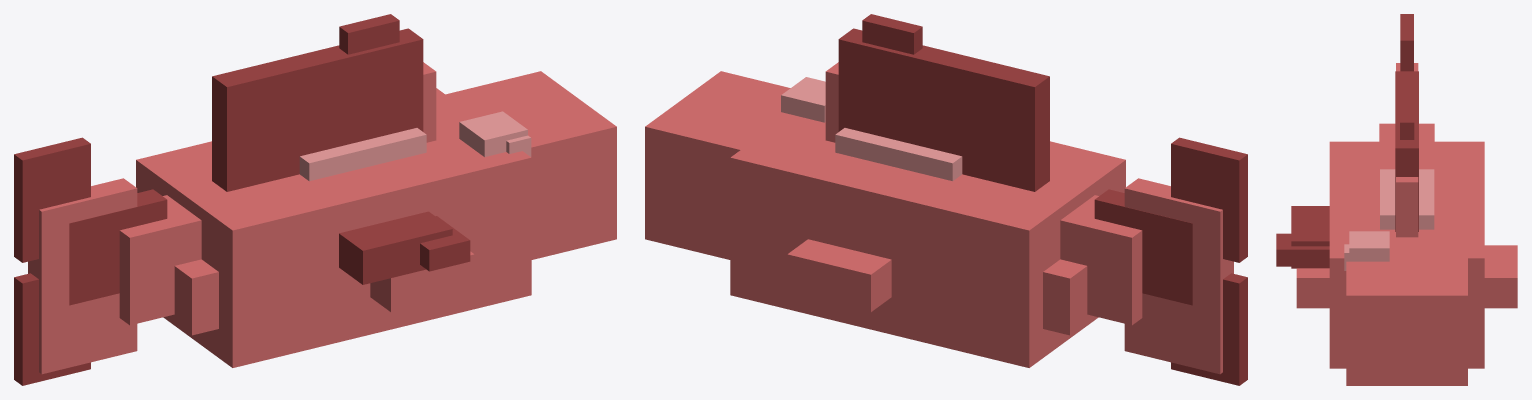
Rendered from fish_coral_scad.glb.
3 views of the same model, side by side, from view 1: azimuth 30°, elevation 25°; view 2: azimuth 150°, elevation 25°; view 3: azimuth 270°, elevation 25° (orthographic). The views are drawn at different scales.
Visible parts, largest first — view 1: FishArt_body, FishArt_dorsal, FishArt_tail, FishArt_pectoral, FishArt_specialty, FishArt_eye; view 2: FishArt_body, FishArt_dorsal, FishArt_tail, FishArt_specialty, FishArt_eye; view 3: FishArt_body, FishArt_pectoral, FishArt_dorsal, FishArt_specialty, FishArt_eye, FishArt_tail.
Boxes of the visible parts, <box> form: FishArt_body: <box>28,62,616,374</box>; FishArt_dorsal: <box>212,14,423,191</box>; FishArt_tail: <box>14,137,167,385</box>; FishArt_pectoral: <box>339,211,470,284</box>; FishArt_specialty: <box>299,128,426,181</box>; FishArt_eye: <box>459,111,531,156</box>; FishArt_body: <box>645,62,1233,374</box>; FishArt_dorsal: <box>838,14,1049,191</box>; FishArt_tail: <box>1094,137,1247,385</box>; FishArt_specialty: <box>835,128,962,181</box>; FishArt_eye: <box>781,77,825,122</box>; FishArt_body: <box>1296,63,1517,385</box>; FishArt_pectoral: <box>1276,206,1329,268</box>; FishArt_dorsal: <box>1395,71,1418,231</box>; FishArt_specialty: <box>1380,169,1434,229</box>; FishArt_eye: <box>1344,231,1389,270</box>; FishArt_tail: <box>1400,14,1413,71</box>.
Bounding box in the file's own units: 0.3091 × 0.1442 × 0.1439.
